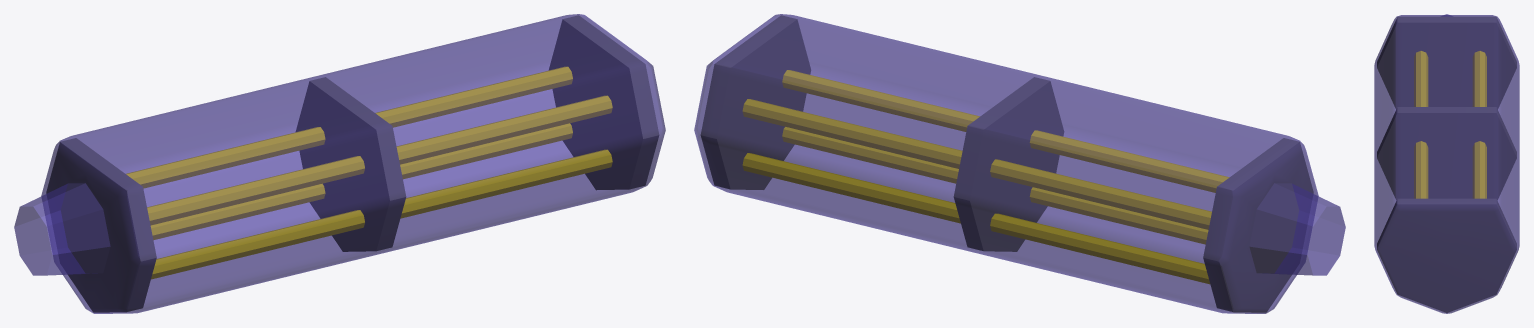
Rendered from destroyable_2x05y05z.fbx.
The picture shows the model from 3 angles, left to right: view 1: azimuth 30°, elevation 25°; view 2: azimuth 150°, elevation 25°; view 3: azimuth 270°, elevation 25°; orthographic projection. The views are drawn at different scales.
Visible parts, largest first — view 1: destroyable_2x05y1z; view 2: destroyable_2x05y1z; view 3: destroyable_2x05y1z.
Part boxes in pixels (bbox=[...]): destroyable_2x05y1z: bbox=[14, 14, 665, 313]; destroyable_2x05y1z: bbox=[694, 14, 1345, 313]; destroyable_2x05y1z: bbox=[1374, 14, 1519, 313].
Bounding box in the file's own units: 194 × 48.29 × 56.03.
